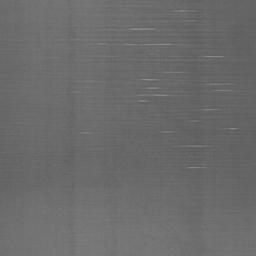Waist folding: (71, 8, 196, 47), (164, 54, 224, 75), (138, 77, 170, 103), (183, 82, 232, 93), (173, 143, 210, 149), (203, 107, 219, 113), (187, 165, 206, 170), (225, 126, 239, 131), (161, 129, 174, 134)
